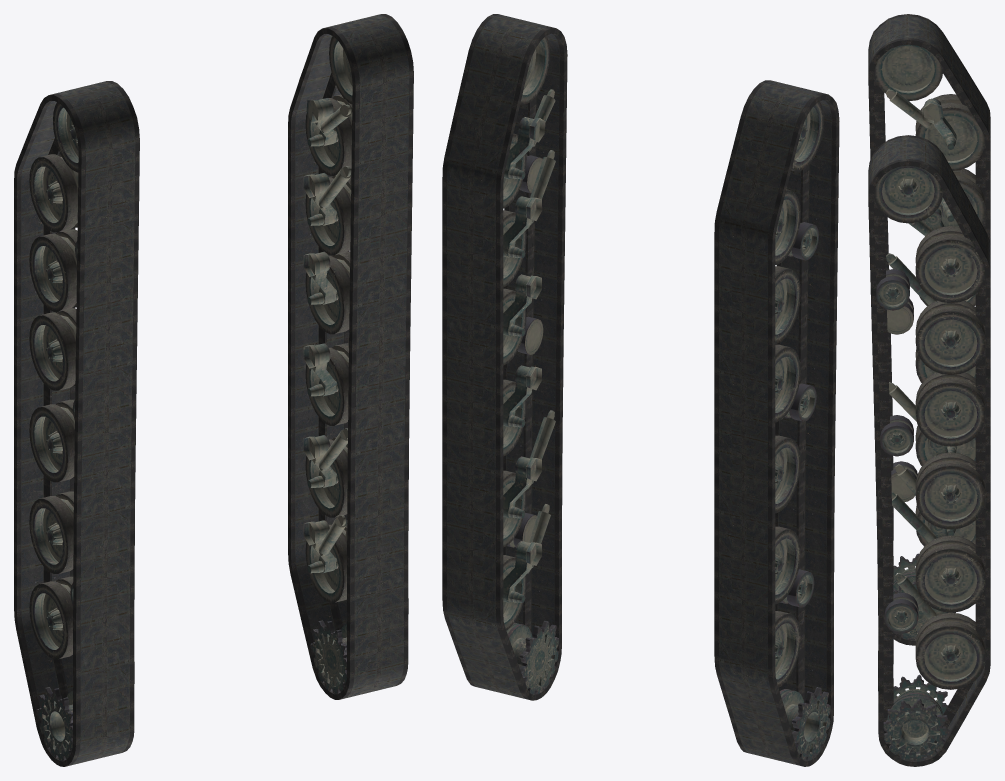
File: Chassis.glb
The picture shows the model from 3 angles, left to right: view 1: azimuth 30°, elevation 25°; view 2: azimuth 150°, elevation 25°; view 3: azimuth 270°, elevation 25°; orthographic projection. The views are drawn at different scales.
Visible parts, largest first — view 1: set_0_group_0, set_1_group_0, set_3_group_0, set_2_group_0; view 2: set_0_group_0, set_1_group_0, set_3_group_0, set_2_group_0; view 3: set_3_group_0, set_1_group_0, set_2_group_0, set_0_group_0.
Boxes of the visible parts, <box> form: set_0_group_0: <box>14,81,139,766</box>; set_1_group_0: <box>288,14,413,699</box>; set_3_group_0: <box>303,36,352,694</box>; set_2_group_0: <box>29,102,78,760</box>; set_0_group_0: <box>714,80,839,766</box>; set_1_group_0: <box>442,14,567,700</box>; set_3_group_0: <box>503,36,558,694</box>; set_2_group_0: <box>775,101,830,760</box>; set_3_group_0: <box>874,166,985,761</box>; set_1_group_0: <box>868,135,990,766</box>; set_2_group_0: <box>874,44,985,640</box>; set_0_group_0: <box>868,14,990,645</box>.
Size of the model in its own units: 3.26 by 6.28 by 1.15.
Materials: 4 (4 with a texture image).
